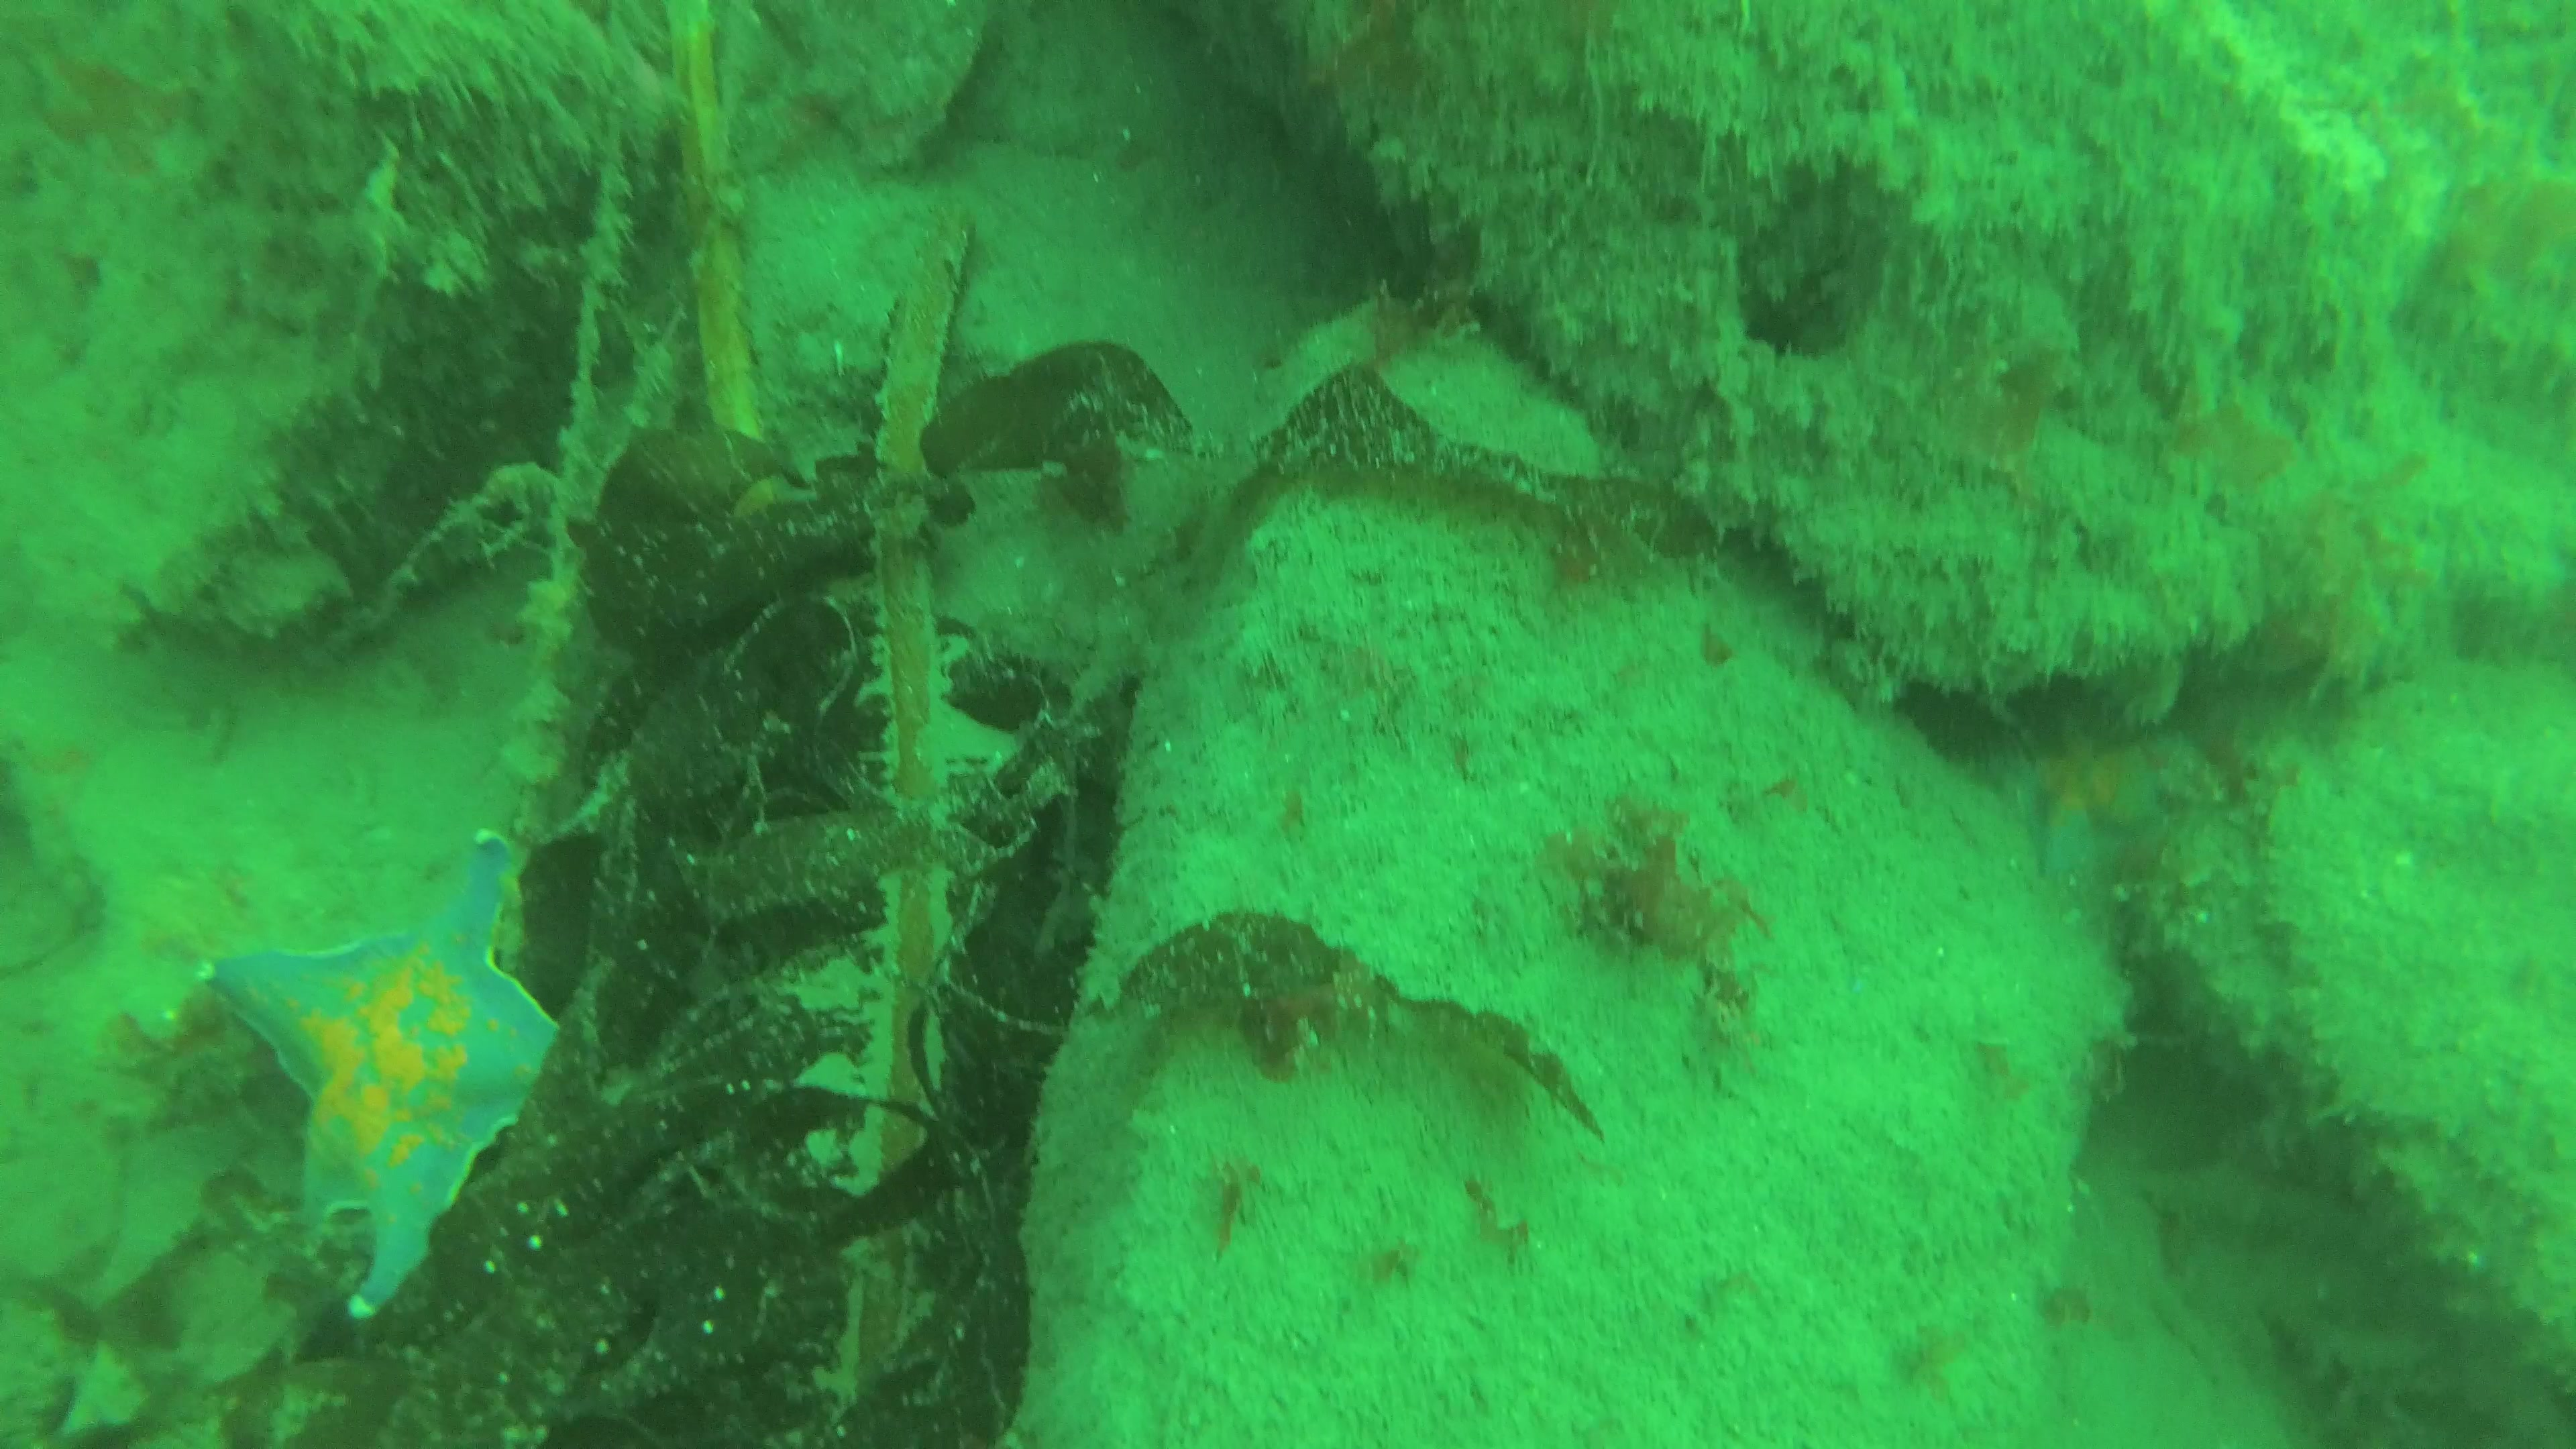starfish: (186, 828, 591, 1332), (2005, 702, 2167, 890)
